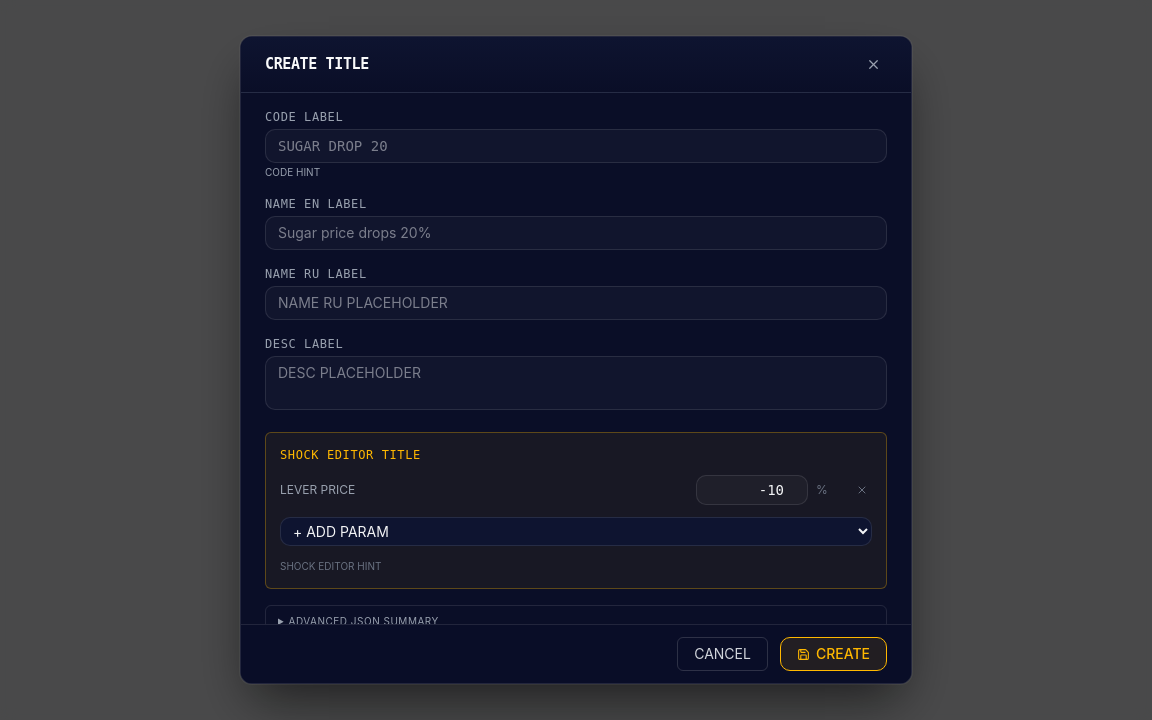
Scenario: ScenarioFormModal — shock scenarios are editable (bug fix) › Add parameter adds a feed-anchored target to the JSON
Select "TARGET OPTION" in the dropdown with test id "shock-add-param": {"x": 576, "y": 532} [280, 517, 872, 546]
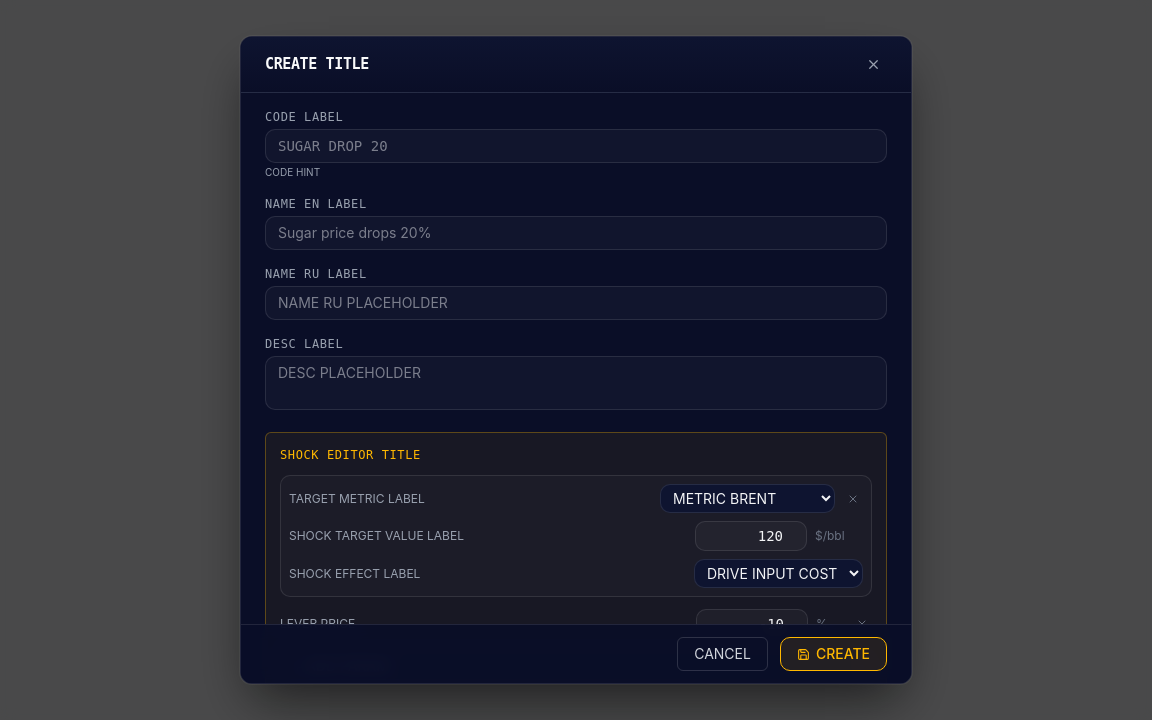
expect the number field with test id "shock-value-input" is shown: met, box [695, 521, 807, 551]
